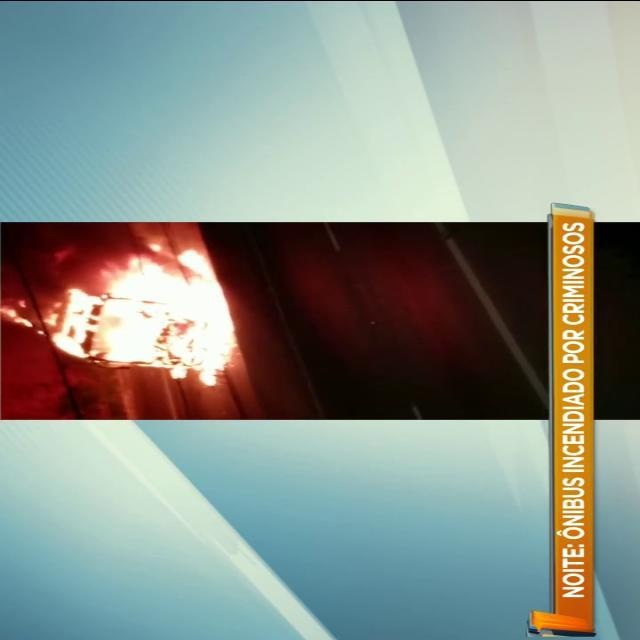Fire: (23, 242, 238, 379)
